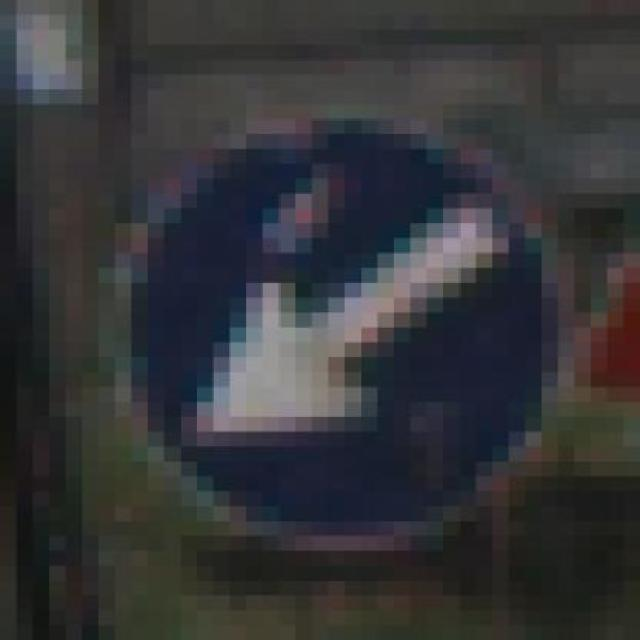Keep-Left: (115, 89, 574, 580)
